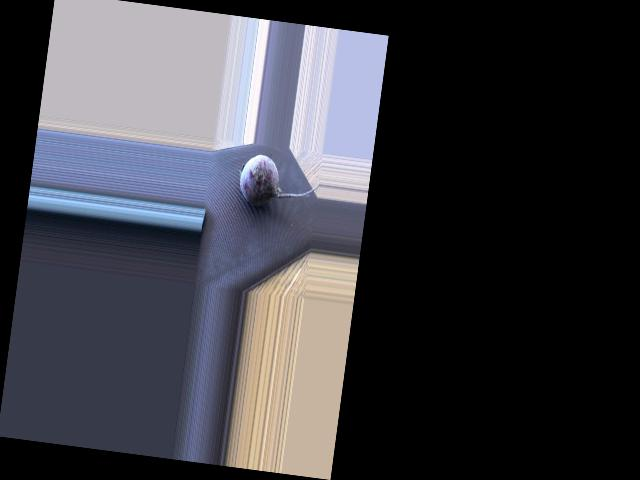beet: (236, 153, 321, 213)
